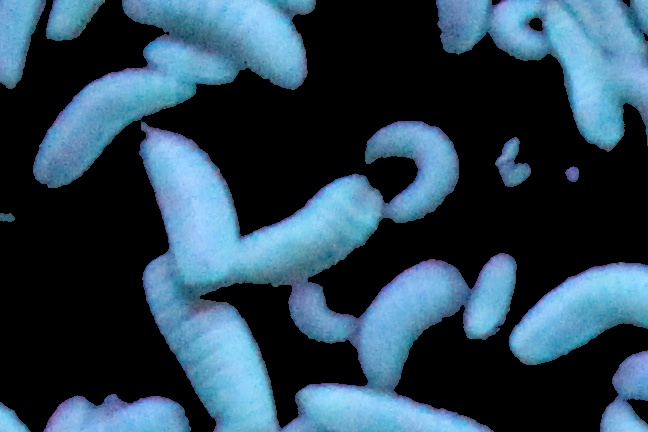larvae: (143, 254, 280, 432), (33, 71, 192, 189), (122, 1, 304, 90), (238, 175, 381, 285), (141, 130, 238, 289), (353, 261, 470, 388), (511, 260, 648, 363), (545, 4, 623, 150), (296, 380, 493, 432), (364, 120, 458, 223), (453, 245, 522, 345), (139, 37, 238, 84), (490, 1, 546, 77), (576, 1, 643, 64), (288, 283, 357, 343), (1, 1, 46, 87), (430, 1, 491, 64), (602, 68, 648, 122), (47, 1, 104, 43)
